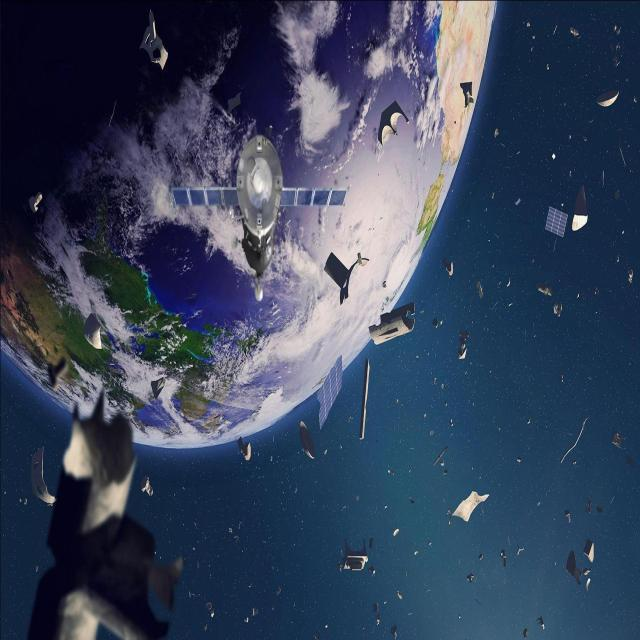large_debris: (27, 394, 182, 640), (324, 252, 369, 305), (369, 302, 415, 345), (317, 356, 342, 428), (139, 9, 167, 68), (30, 447, 55, 506), (378, 100, 409, 145), (561, 417, 590, 464), (453, 492, 489, 523), (360, 358, 370, 440), (342, 540, 368, 571), (546, 206, 569, 236), (573, 185, 588, 230), (47, 359, 67, 391), (83, 313, 100, 348), (566, 549, 581, 584), (300, 422, 314, 459), (106, 92, 118, 128), (597, 88, 620, 106), (458, 330, 470, 360), (461, 81, 474, 107), (150, 378, 164, 399), (238, 438, 251, 460), (140, 476, 153, 497), (434, 447, 448, 466), (228, 523, 242, 542), (28, 192, 41, 212), (538, 282, 554, 296), (244, 606, 258, 622), (583, 568, 593, 590), (585, 539, 594, 563), (373, 602, 382, 626), (618, 140, 626, 166), (443, 257, 453, 276), (613, 433, 624, 449), (205, 602, 214, 618), (614, 43, 620, 66), (554, 301, 563, 316), (500, 551, 507, 568), (537, 617, 545, 631), (516, 542, 524, 556), (628, 265, 634, 283), (478, 281, 484, 299), (552, 235, 558, 253), (613, 22, 621, 35), (492, 125, 500, 138), (626, 454, 634, 467), (432, 317, 440, 330), (571, 25, 580, 36), (565, 510, 572, 524), (466, 572, 474, 584), (474, 594, 482, 606), (396, 587, 403, 600), (492, 297, 499, 310), (530, 33, 535, 51), (587, 498, 592, 515), (600, 170, 606, 184), (552, 22, 558, 35), (391, 627, 397, 639), (407, 496, 415, 505), (596, 504, 603, 514), (447, 508, 451, 525), (34, 563, 40, 574), (614, 253, 620, 264), (588, 114, 594, 125), (526, 18, 531, 31), (506, 274, 511, 287), (341, 500, 346, 513), (368, 567, 375, 576), (314, 631, 321, 640), (387, 467, 394, 476), (515, 148, 522, 157), (609, 494, 615, 504), (558, 372, 564, 382), (507, 299, 513, 309), (368, 536, 373, 548), (523, 624, 527, 638), (274, 586, 281, 594), (322, 446, 329, 454), (355, 490, 360, 501), (516, 455, 522, 464), (567, 131, 573, 140), (22, 496, 28, 505), (449, 417, 454, 427), (348, 411, 353, 421), (494, 231, 499, 241), (424, 587, 431, 594), (526, 416, 532, 424), (432, 376, 438, 384), (595, 284, 599, 296), (576, 291, 582, 299), (478, 552, 483, 561), (203, 622, 208, 631), (383, 501, 388, 510), (337, 440, 342, 449), (571, 458, 577, 465), (246, 582, 253, 588), (17, 495, 23, 502), (394, 529, 399, 537), (633, 94, 637, 104), (568, 167, 572, 177), (516, 197, 520, 207), (614, 190, 618, 200), (491, 191, 495, 201), (408, 463, 412, 472), (499, 140, 505, 146), (591, 16, 597, 22), (429, 428, 434, 435), (428, 539, 432, 547), (441, 380, 445, 388), (546, 62, 550, 70), (414, 548, 419, 554), (443, 469, 447, 476), (444, 400, 448, 407), (584, 132, 587, 141), (407, 610, 412, 615), (440, 461, 445, 466), (2, 488, 6, 494), (498, 280, 500, 287)
medium_debris: (171, 135, 347, 301)
